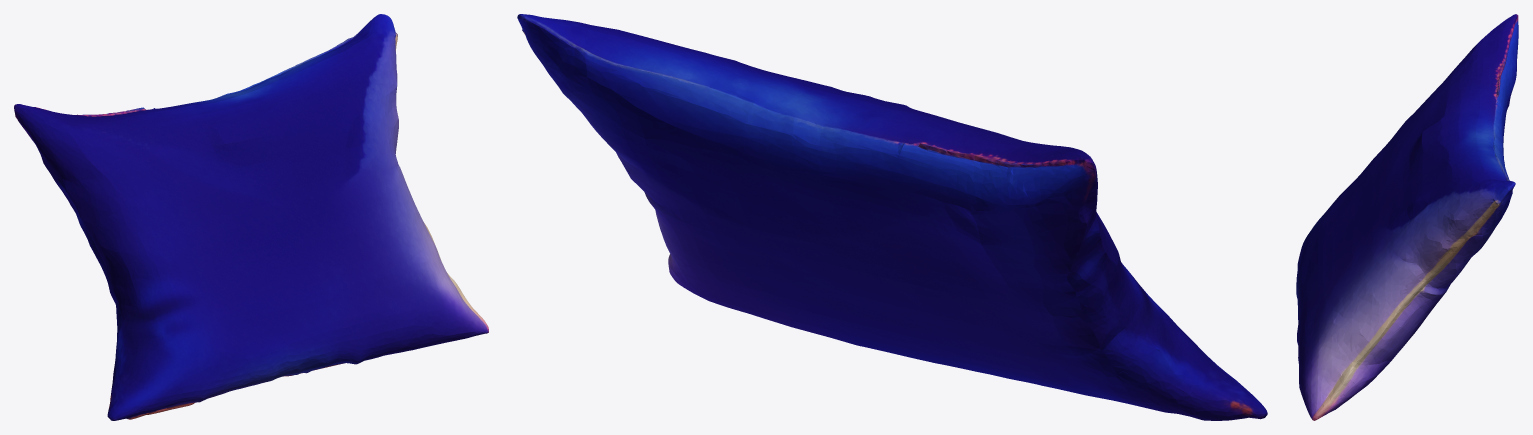
Rendered from 2de7f9a6-e376-4ad9-95dd-004f308bde3b.glb.
3 renders of one model, left to right at view 1: azimuth 30°, elevation 25°; view 2: azimuth 150°, elevation 25°; view 3: azimuth 270°, elevation 25°, orthographic. The views are drawn at different scales.
Visible parts, largest first — view 1: world; view 2: world; view 3: world.
Boxes of the visible parts, x1,y1,x2,y2 form: world: (14,14,488,420); world: (517,14,1267,420); world: (1296,14,1518,420).
Bounding box in the file's own units: 0.9916 × 0.6124 × 0.5172.
1 material, 1 textured.
